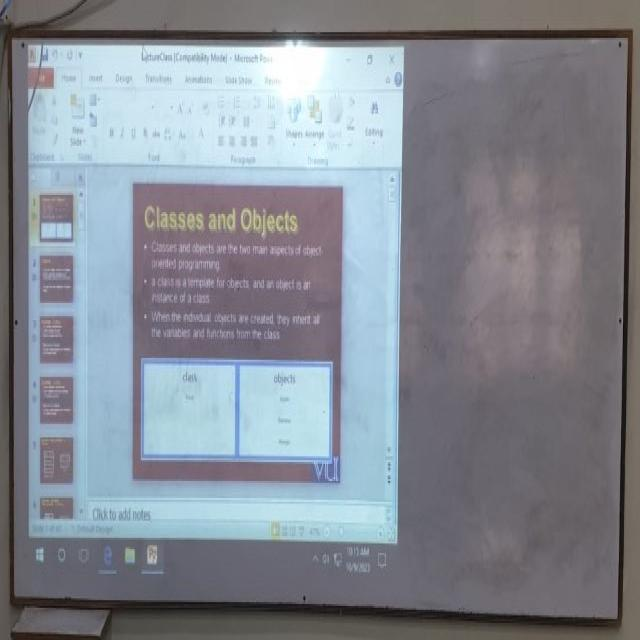Slide: (27, 42, 406, 577)
White-board: (12, 29, 633, 620)
